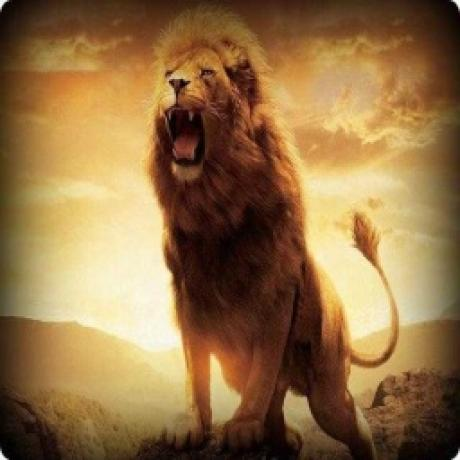Lion: (142, 0, 402, 460)
